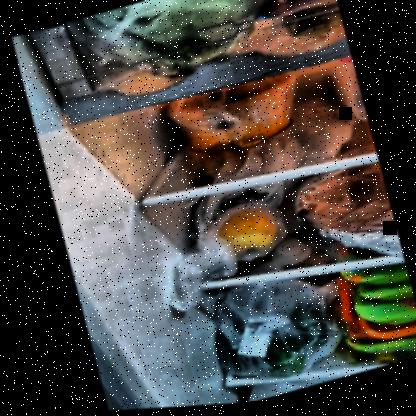chicken: (327, 260, 415, 363)
lemon: (215, 200, 286, 266)
